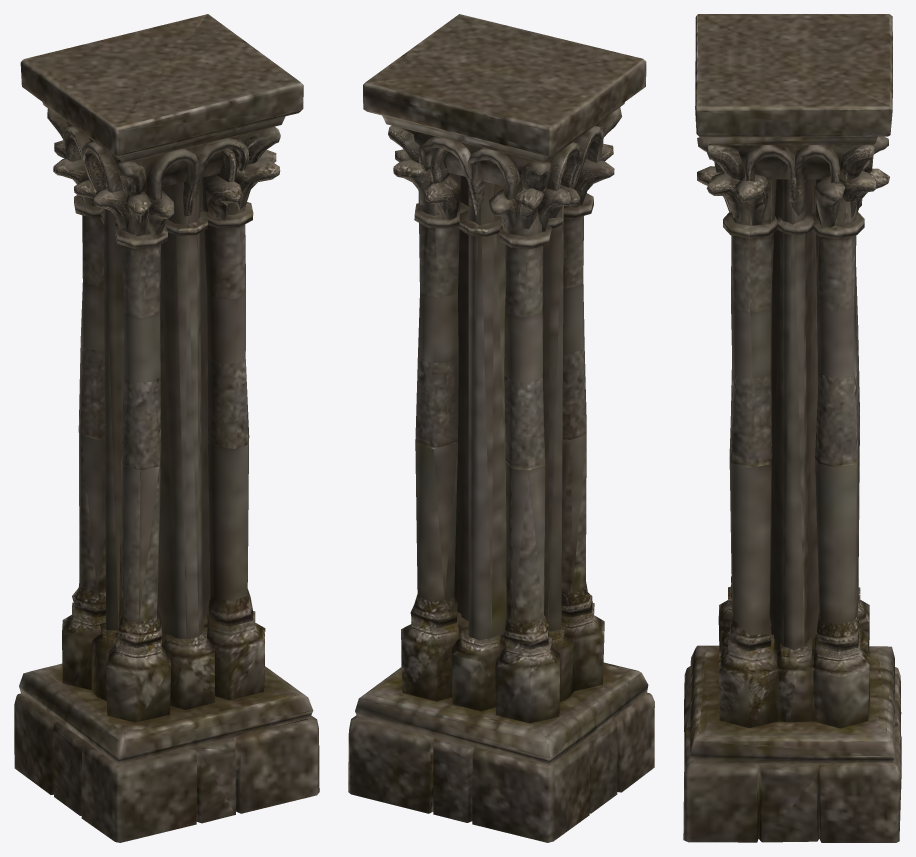
File: h_pillar.glb
3 views of the same model, side by side, from view 1: azimuth 30°, elevation 25°; view 2: azimuth 150°, elevation 25°; view 3: azimuth 270°, elevation 25° (orthographic). The views are drawn at different scales.
Visible parts, largest first — view 1: h_pillar; view 2: h_pillar; view 3: h_pillar.
Boxes of the visible parts, bbox=[...] form: h_pillar: bbox=[14, 14, 319, 842]; h_pillar: bbox=[348, 14, 654, 842]; h_pillar: bbox=[683, 14, 901, 842].
Size of the model in its own units: 1.33 by 4.4 by 1.19.
Materials: 1 (1 with a texture image).
